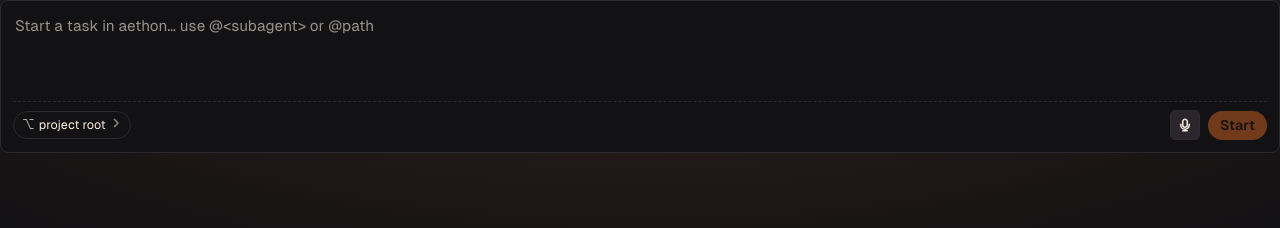
it: TaskLauncher › offers @file completions rooted at the project and inserts on Tab
Type "@app" into the text box named "Task prompt" at (640, 49), box [13,13,1267,85]
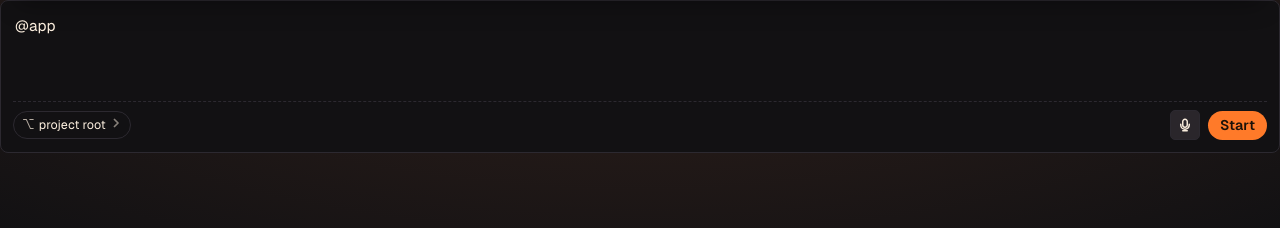
Press Tab in the text box named "Task prompt", box [13,13,1267,85]
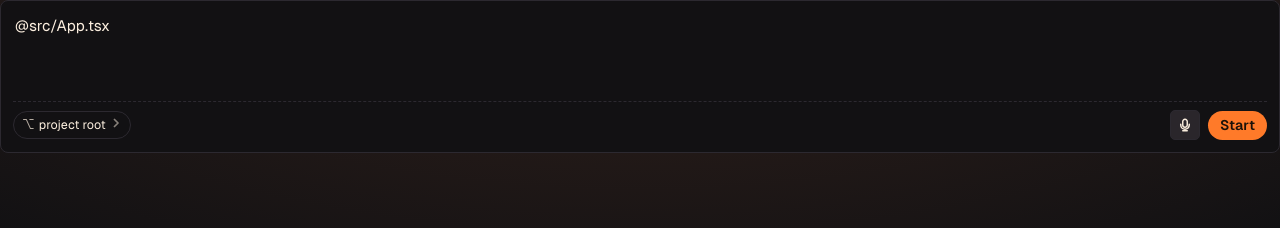
Expected: the text box named "Task prompt" holds "@src/App.tsx ", [13,13,1267,85]
